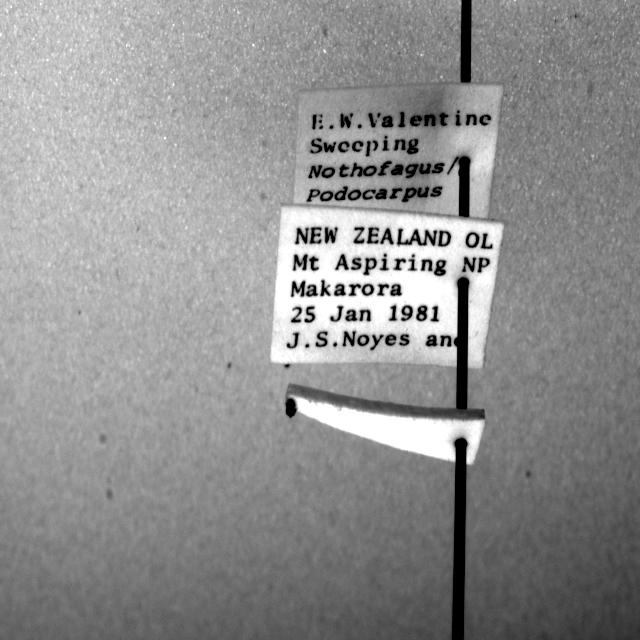typed_label: (271, 206, 504, 368), (294, 82, 504, 219)
